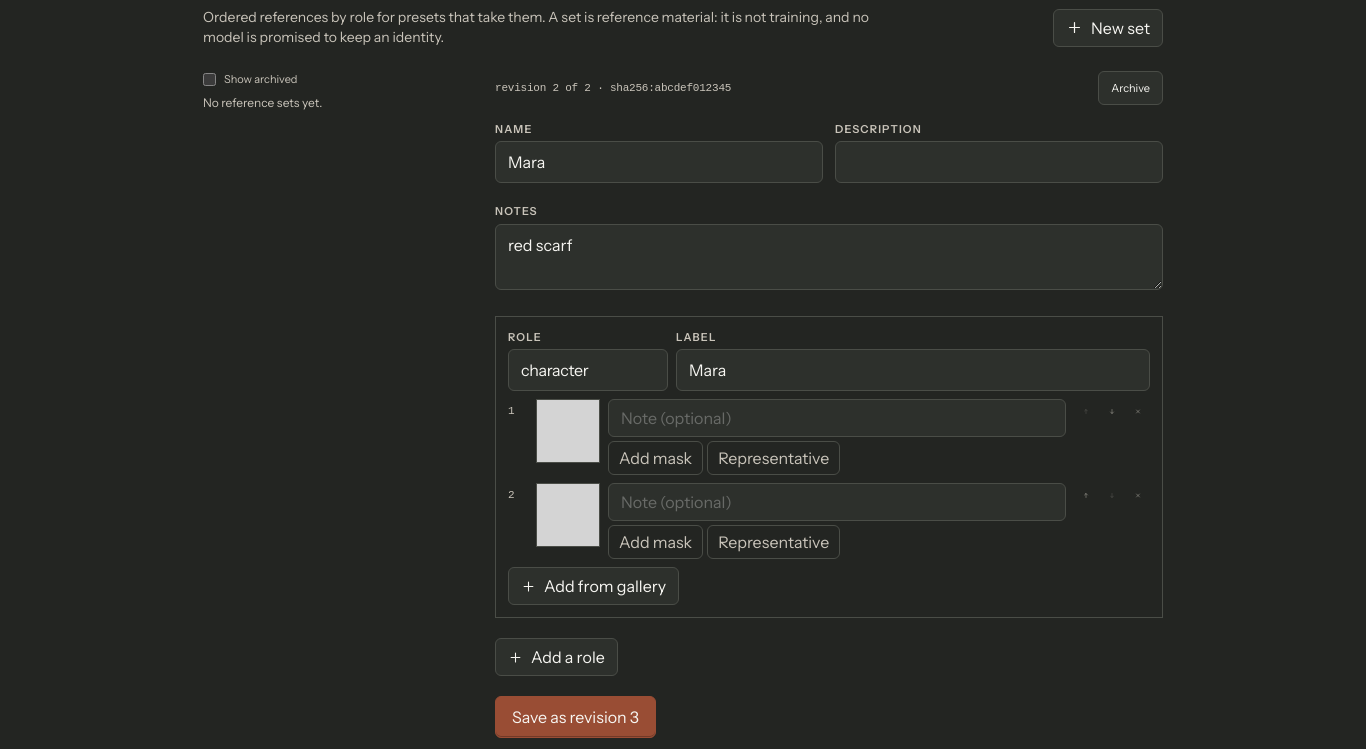
Test case: ReferenceSets › a stale save says so and overwrites nothing
(page scrolled)
Click the button "Save as revision 3" at (576, 717), box top-left (495, 696), bottom-right (656, 738)
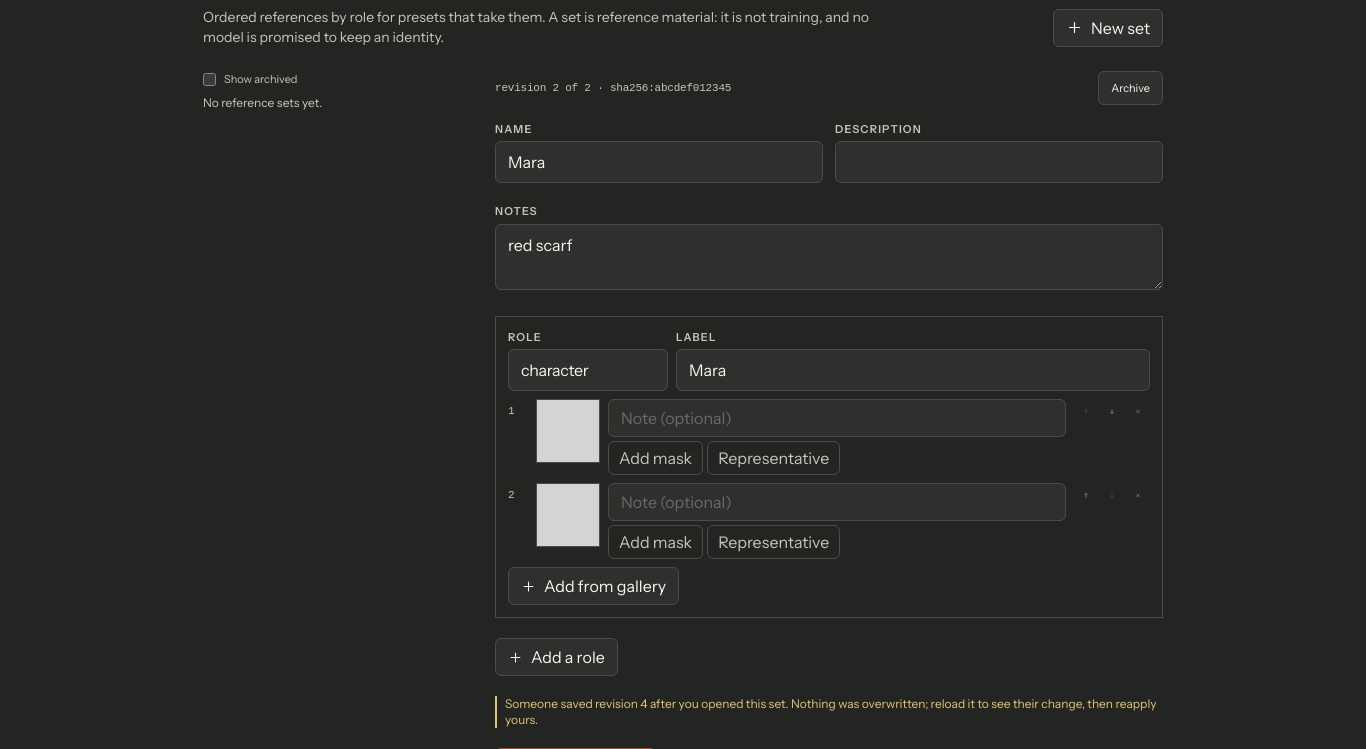
Expected: the text with test id "reference-conflict" shows "revision 4", top-left (495, 696), bottom-right (1163, 728)
